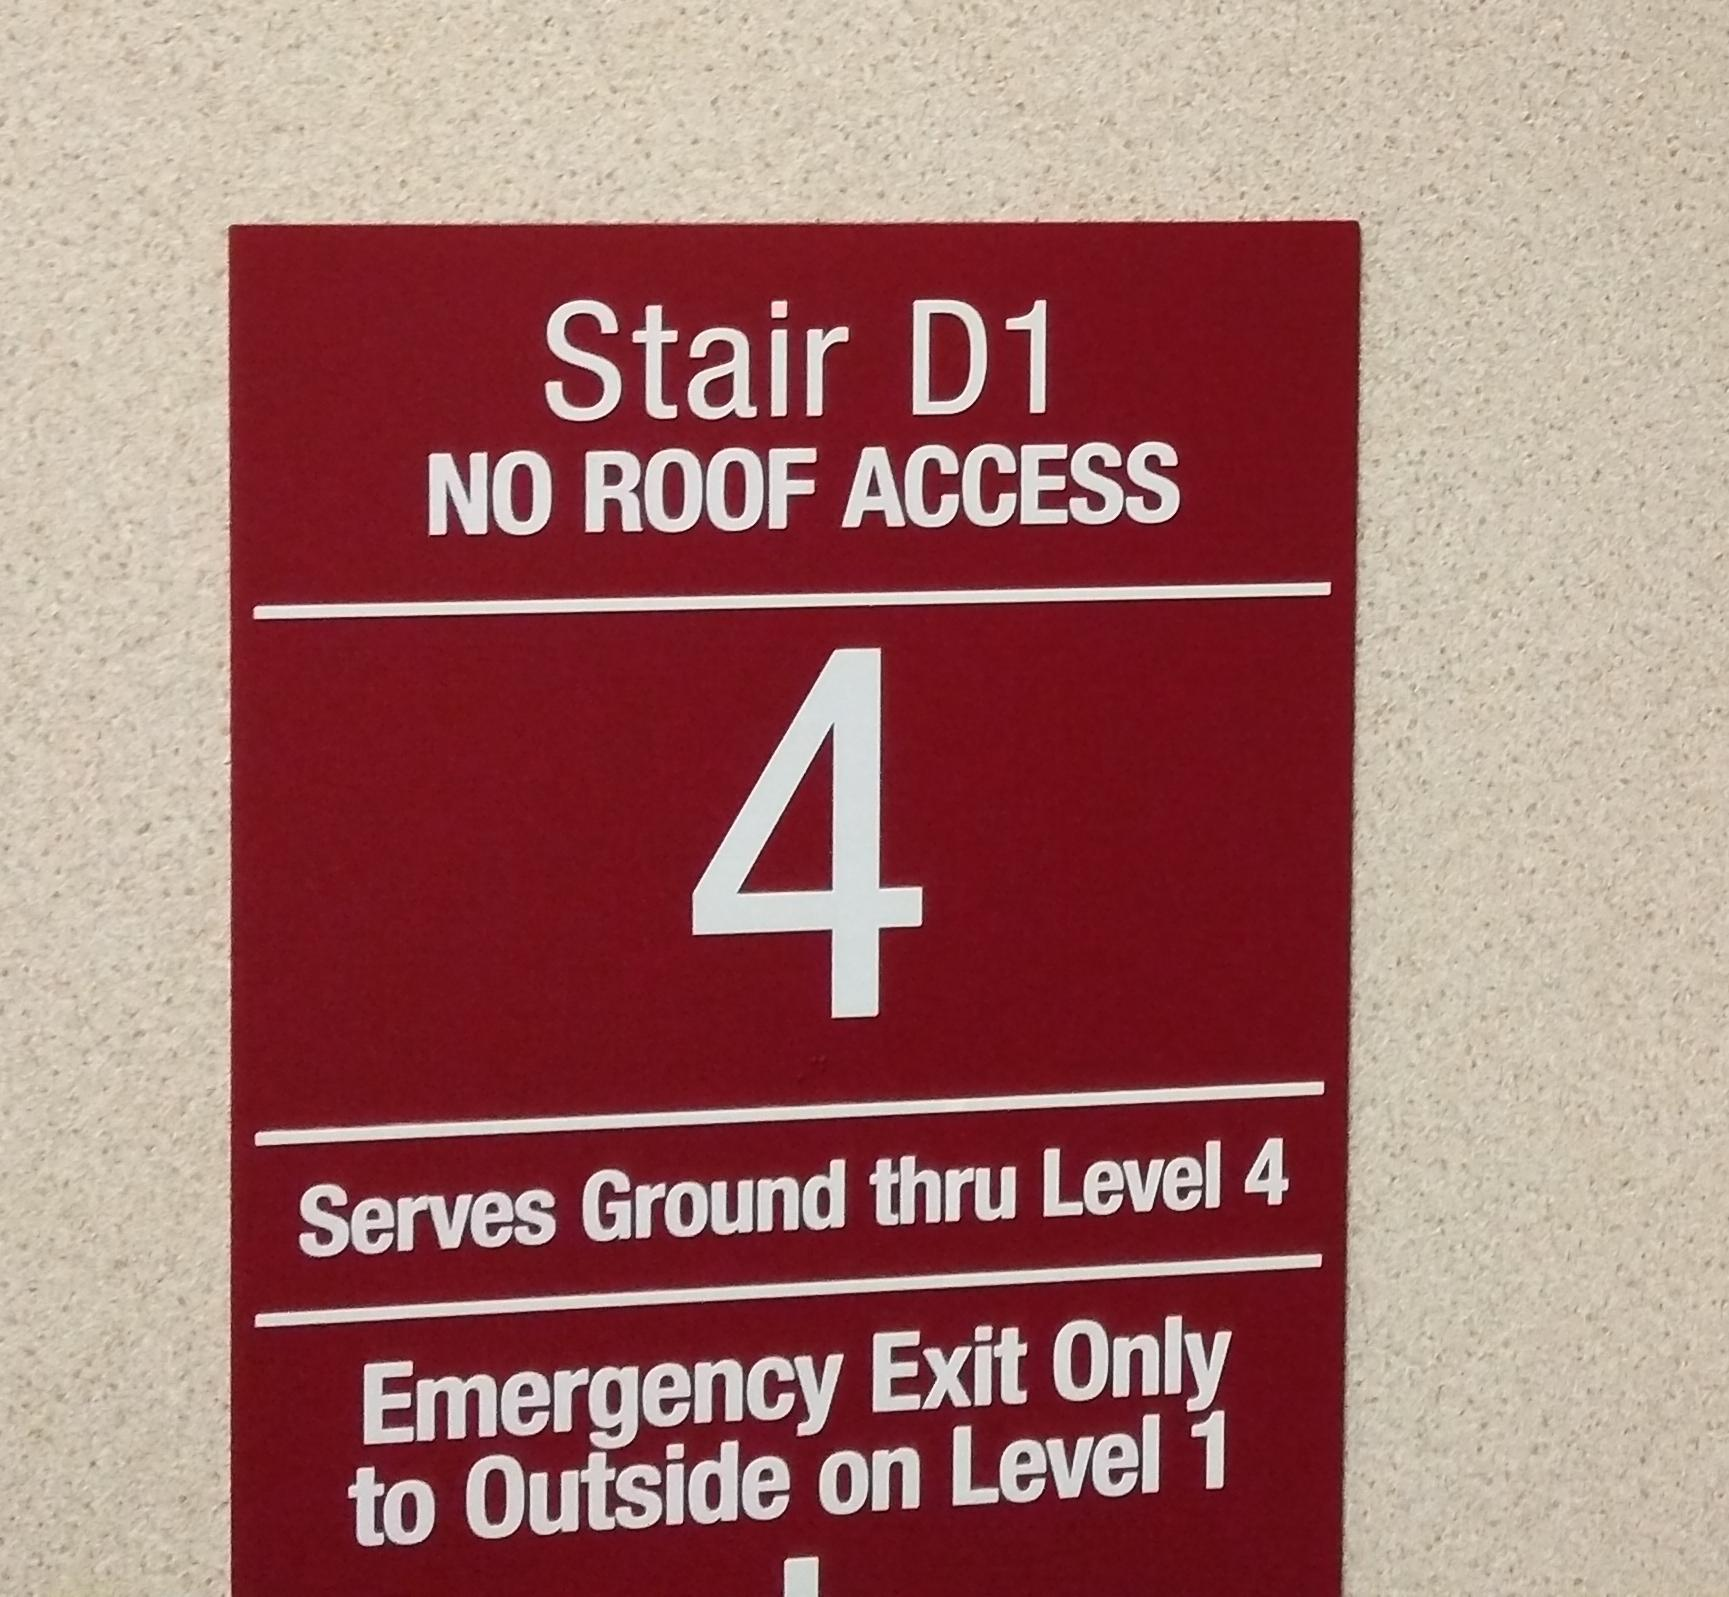sign: (230, 223, 1358, 1594)
